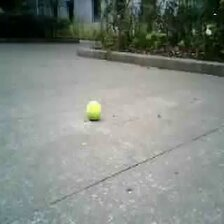tennis: (86, 100, 102, 119)
